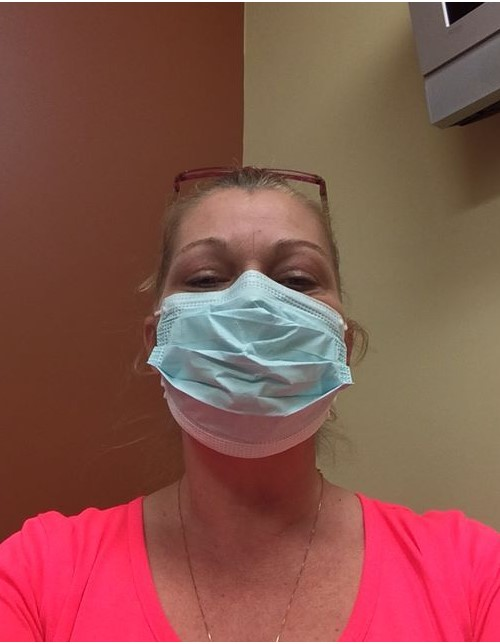face_with_mask: (150, 178, 355, 462)
